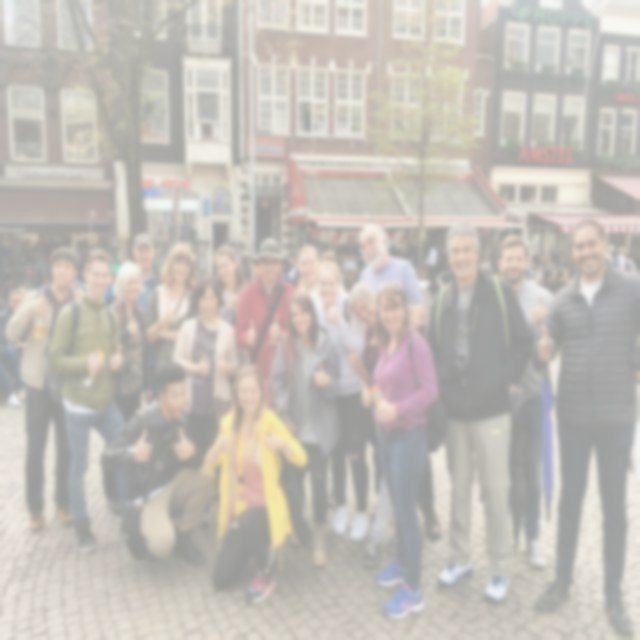pessoa: (536, 220, 640, 634), (431, 220, 534, 604), (357, 223, 443, 541), (362, 280, 439, 620), (202, 363, 308, 608), (100, 360, 218, 568), (48, 249, 125, 552), (7, 246, 80, 534), (496, 233, 556, 570), (270, 288, 340, 567), (346, 281, 414, 567), (305, 248, 368, 542), (172, 274, 242, 528), (235, 236, 298, 382), (147, 242, 200, 399), (108, 259, 154, 426), (127, 234, 163, 422), (212, 244, 250, 396), (0, 288, 32, 401), (294, 245, 321, 298), (0, 346, 20, 409), (32, 232, 48, 294), (422, 240, 437, 294), (0, 238, 13, 283), (46, 237, 57, 283), (344, 254, 357, 292), (18, 238, 34, 268), (282, 255, 296, 283), (281, 256, 296, 280), (78, 252, 89, 284), (612, 246, 626, 271), (351, 252, 362, 282), (241, 257, 252, 285), (526, 255, 538, 280), (624, 253, 638, 274), (566, 252, 576, 279), (280, 252, 291, 276), (398, 253, 421, 263), (604, 245, 616, 263), (338, 254, 348, 274), (628, 234, 638, 254), (476, 255, 486, 272), (534, 254, 546, 268), (530, 276, 544, 288), (486, 256, 494, 275), (556, 253, 566, 268), (545, 256, 554, 272), (112, 254, 124, 265), (18, 287, 30, 297), (340, 244, 352, 254), (494, 255, 501, 272)
